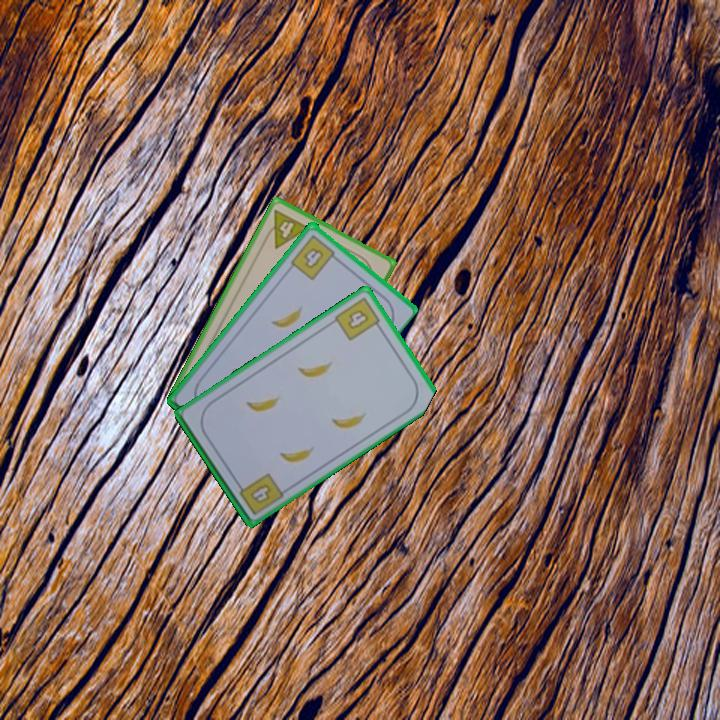4b: (287, 231, 342, 282), (331, 293, 385, 343), (233, 469, 286, 518)
4p: (259, 206, 312, 251)
